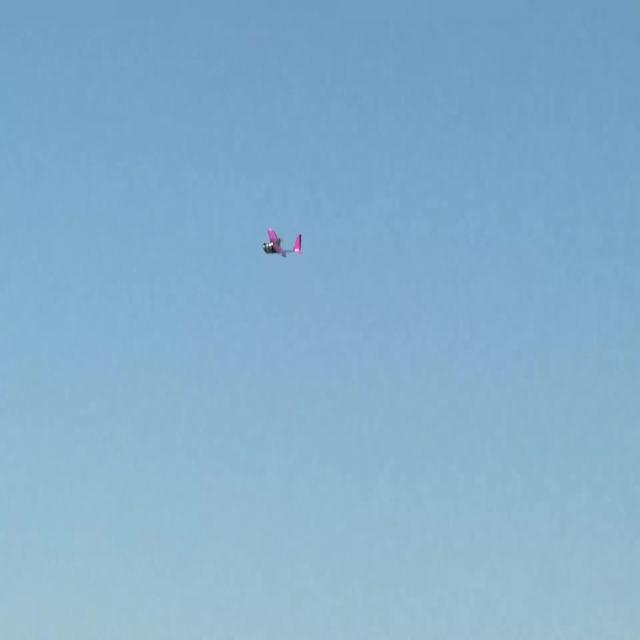iha: (262, 228, 302, 259)
